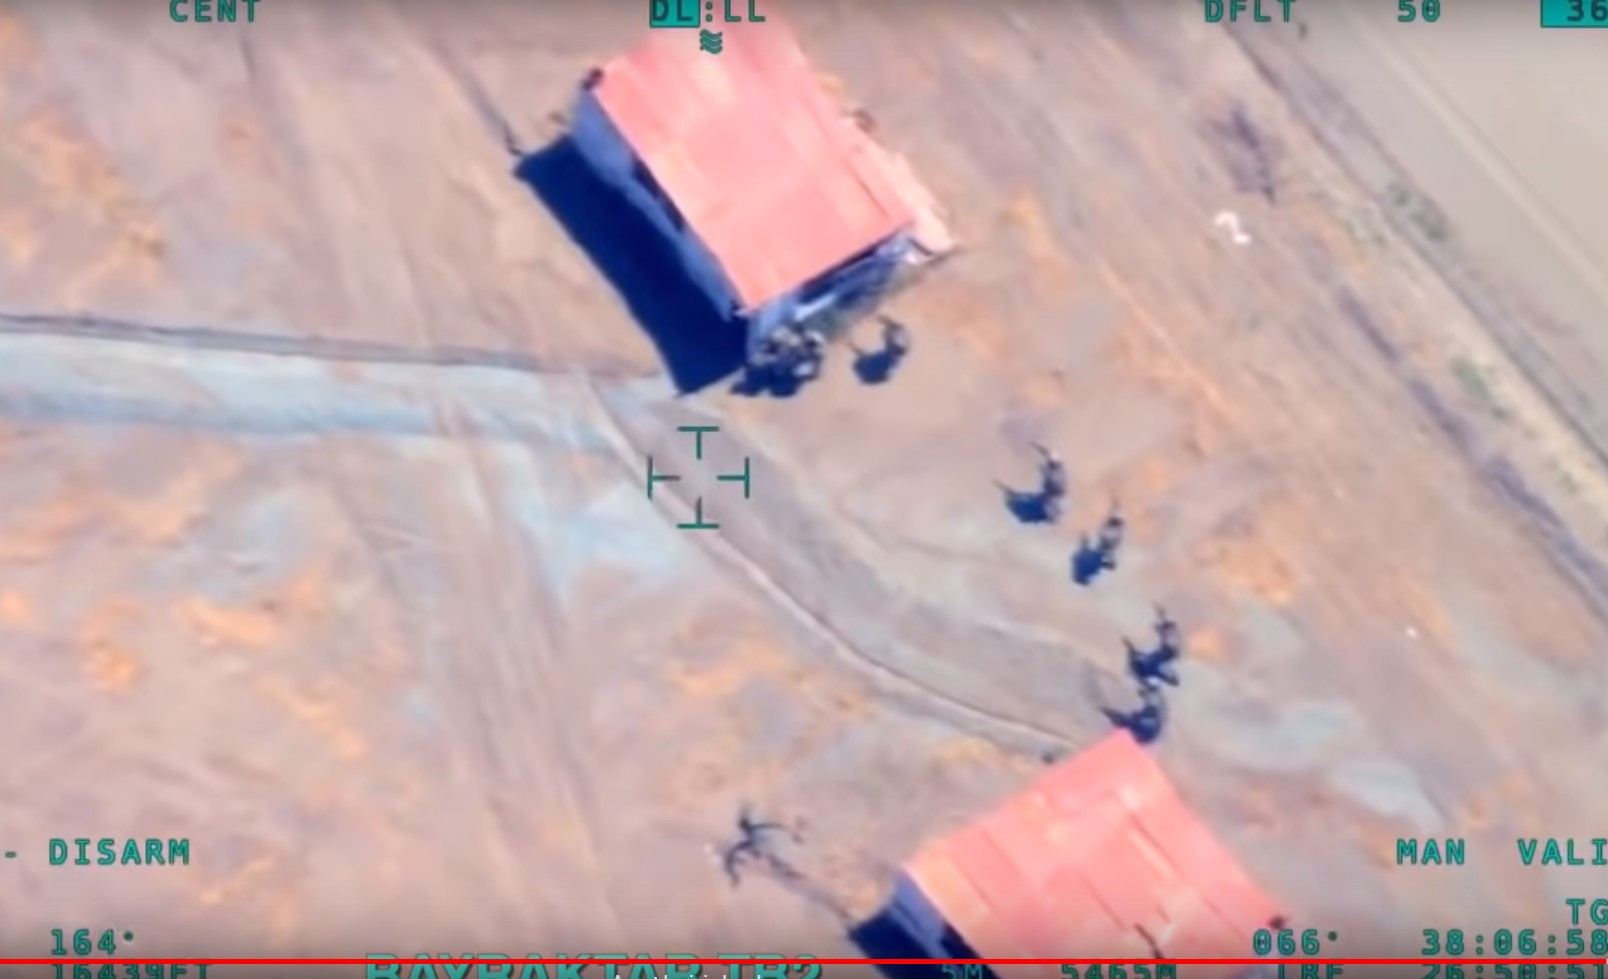insan: (1016, 438, 1070, 525), (1130, 608, 1186, 682), (1083, 503, 1130, 577), (869, 311, 916, 374), (1113, 682, 1172, 731)
